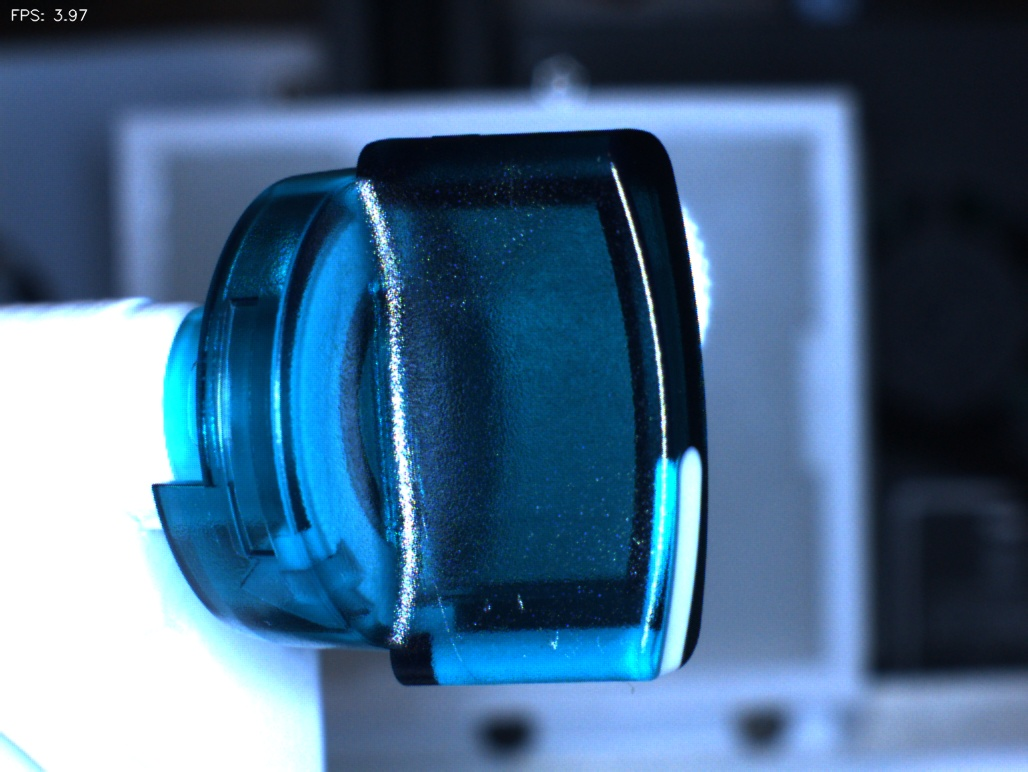Givrage: (486, 567, 585, 669)
